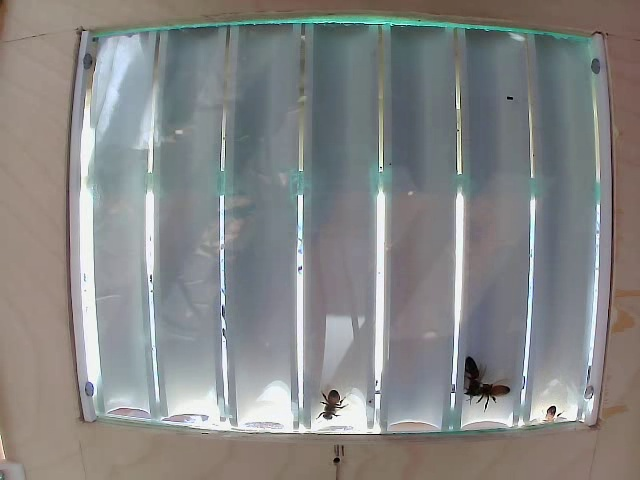bee: (478, 377, 510, 413), (309, 400, 350, 428), (456, 362, 485, 390)
